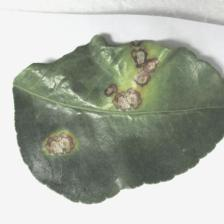canker: (35, 37, 165, 170)
